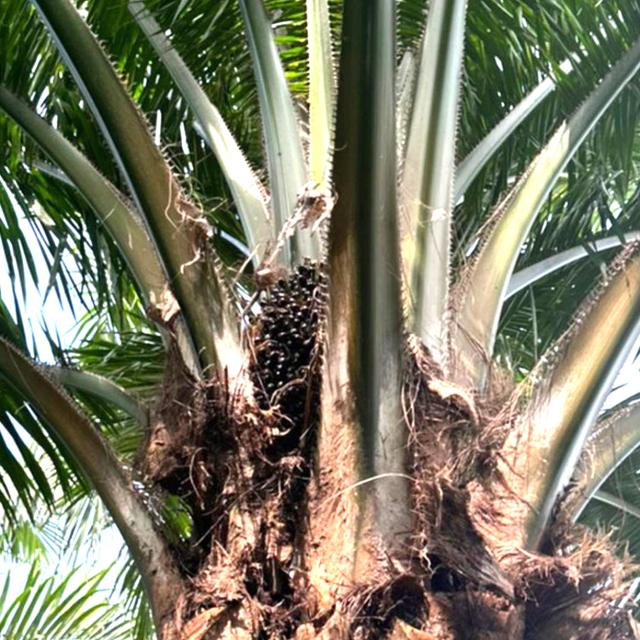almost: (242, 251, 340, 430)
